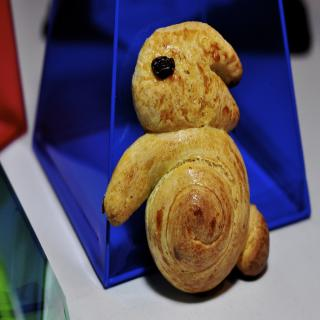Bread: (111, 112, 263, 279)
Croissant: (132, 128, 255, 280)
